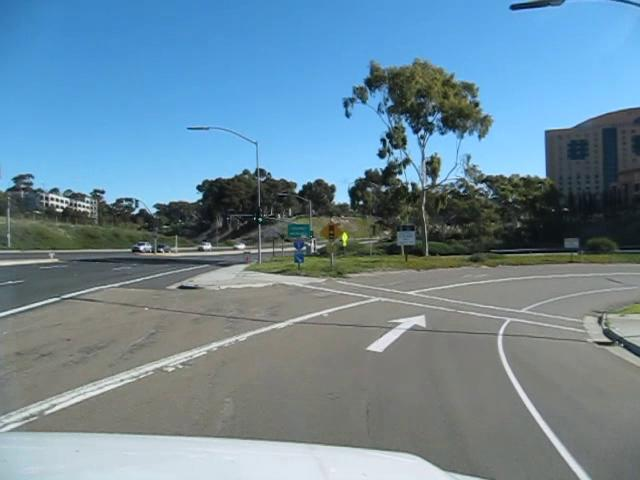signalAhead: (319, 220, 343, 244)
